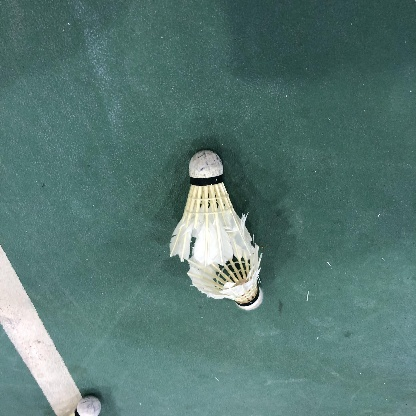ball_single: (169, 150, 253, 266), (188, 242, 263, 310), (67, 395, 101, 416)
